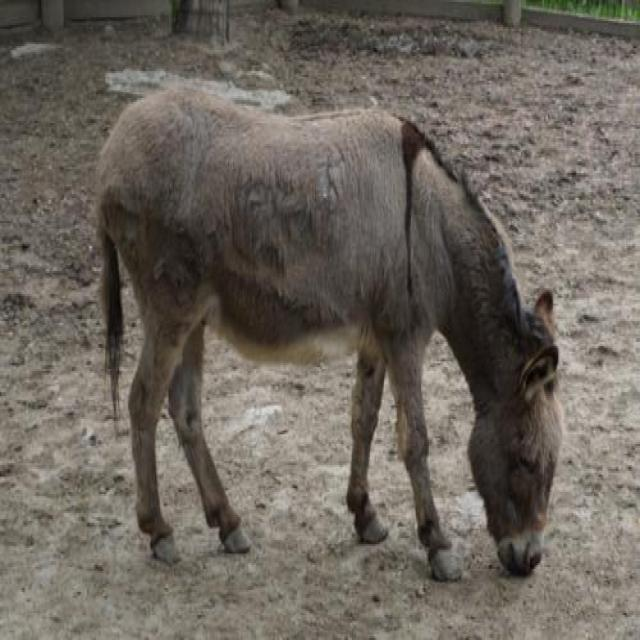Donkey: (96, 86, 564, 584)
